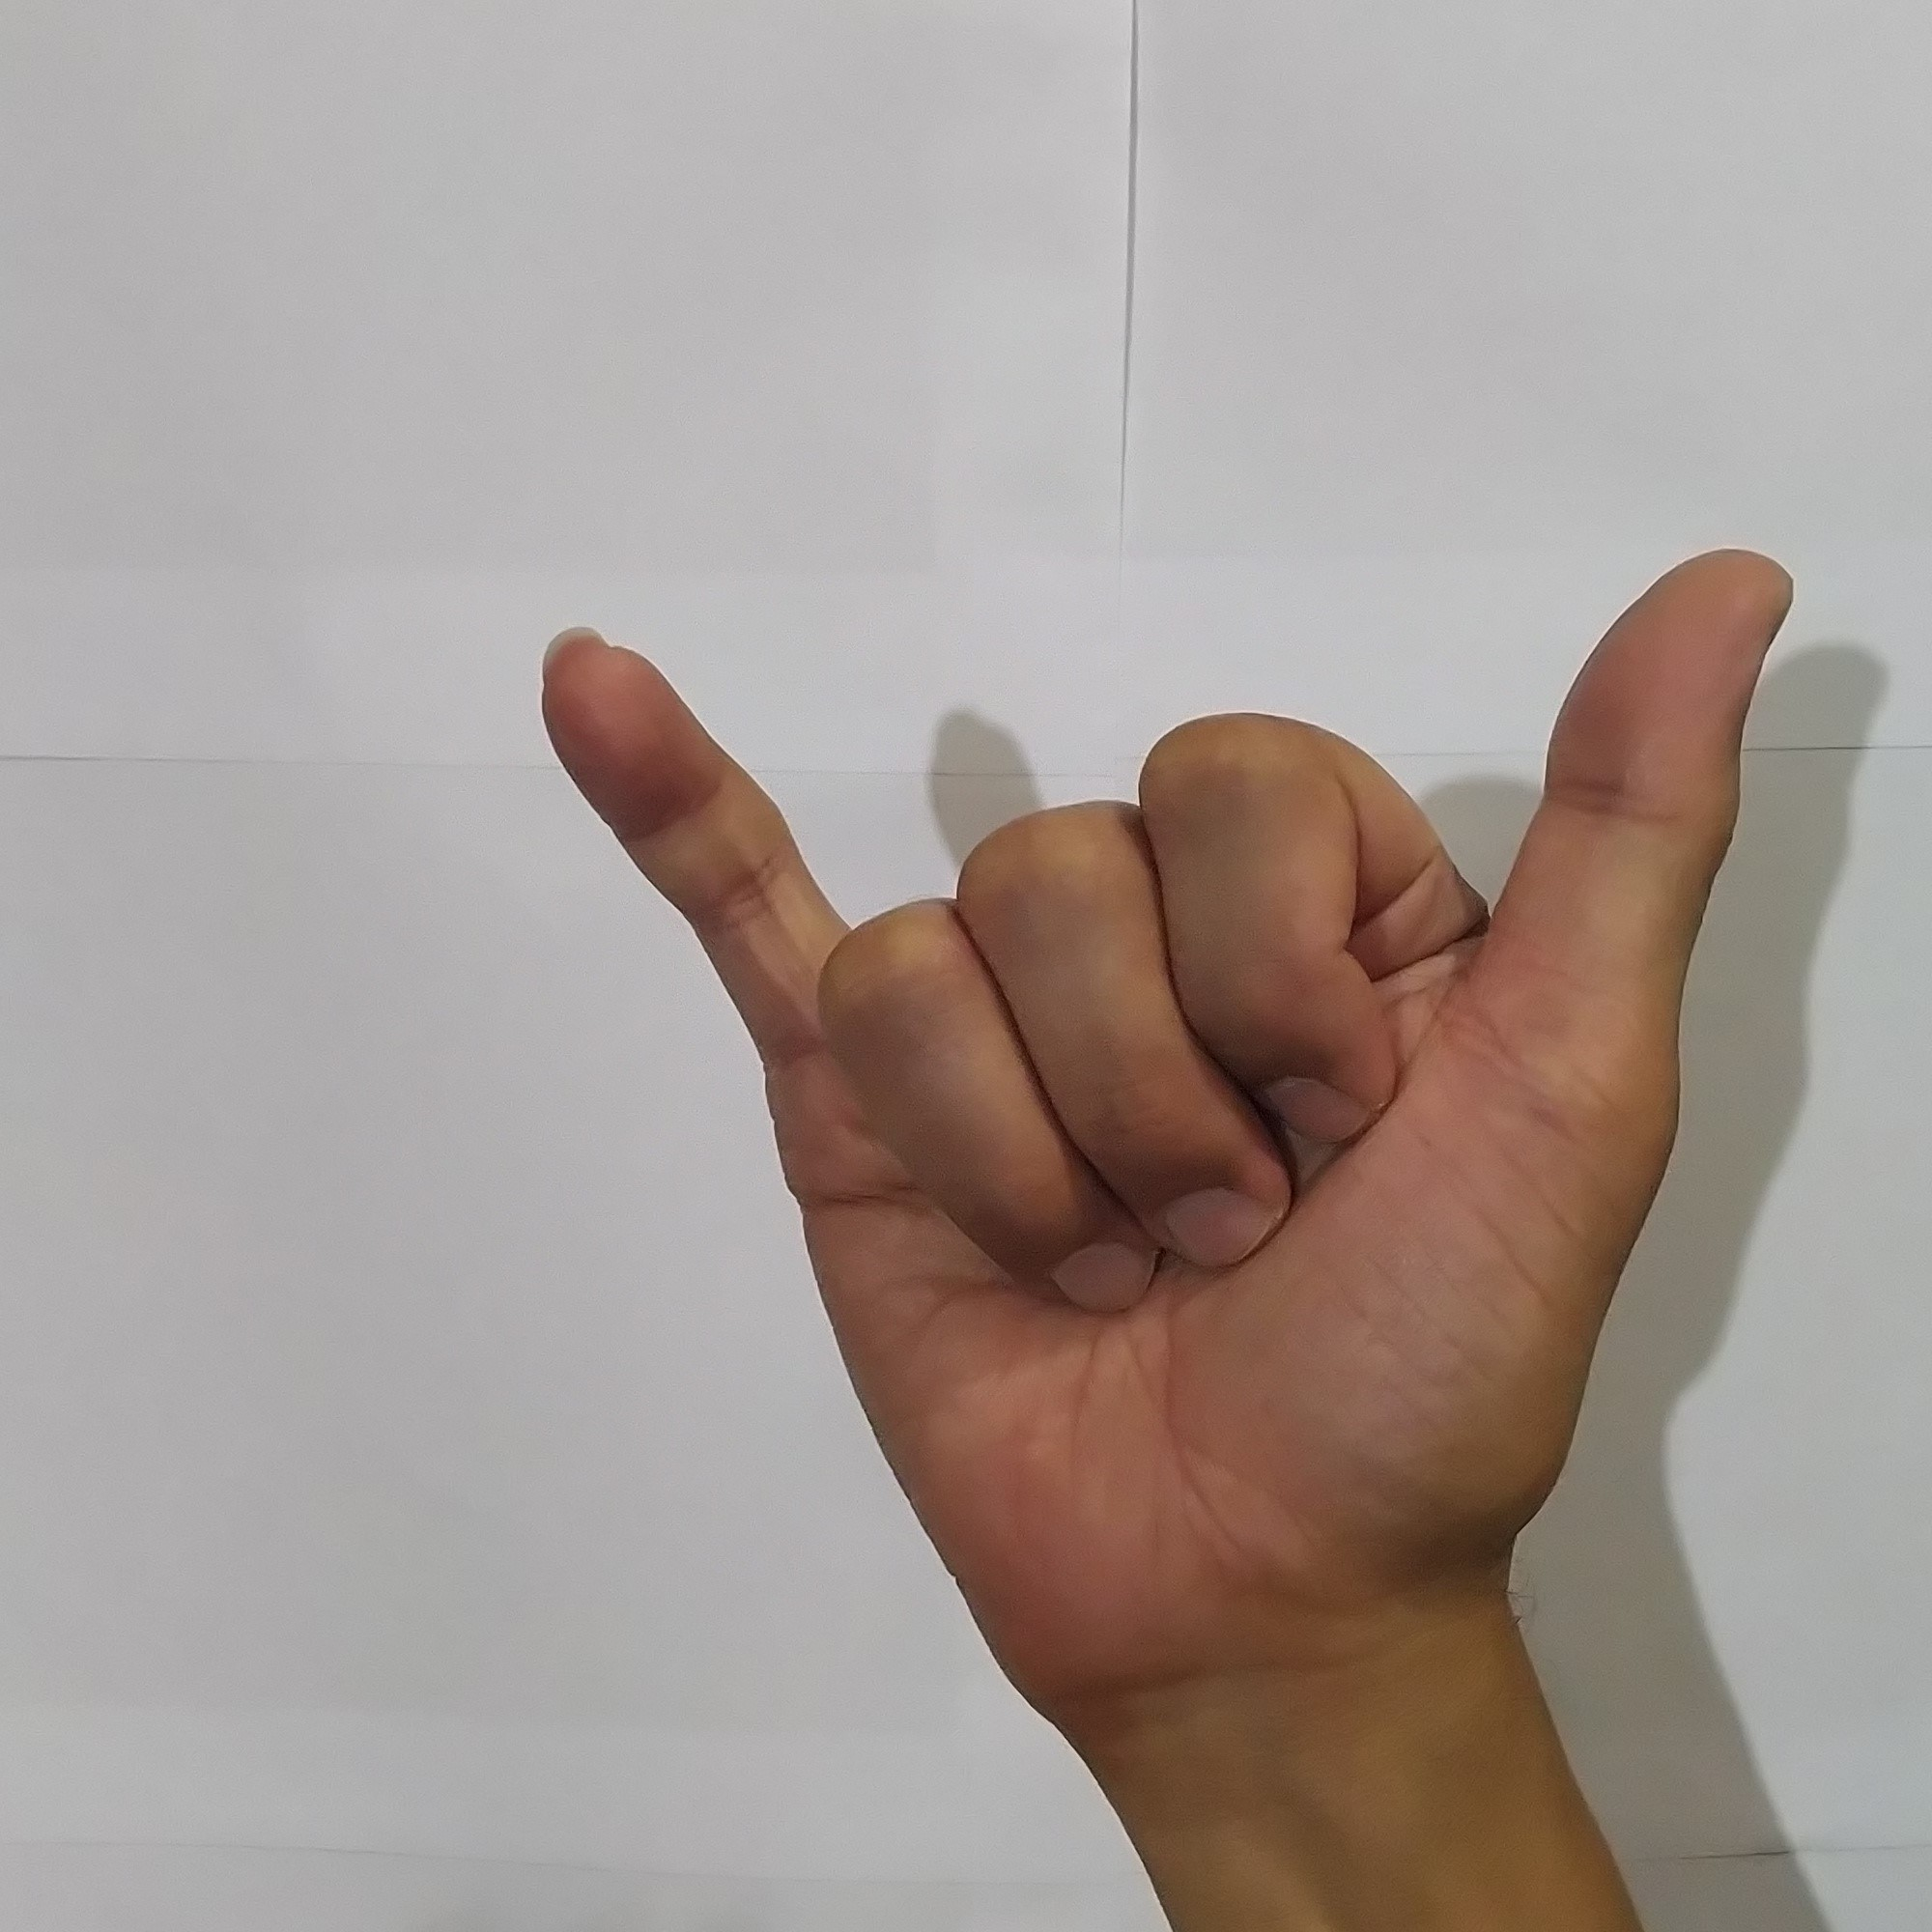Y: (508, 518, 1819, 1695)
